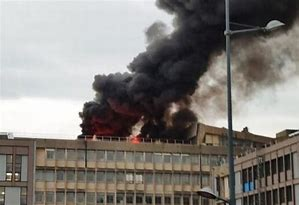smoke: (79, 1, 299, 135)
